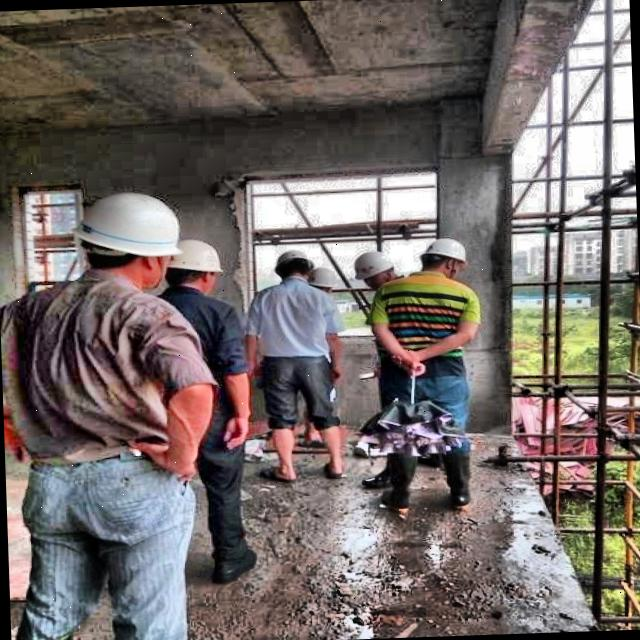helmet: (64, 180, 192, 292), (164, 232, 237, 305), (420, 228, 474, 286), (354, 249, 401, 292), (272, 247, 314, 286), (306, 264, 342, 302)
